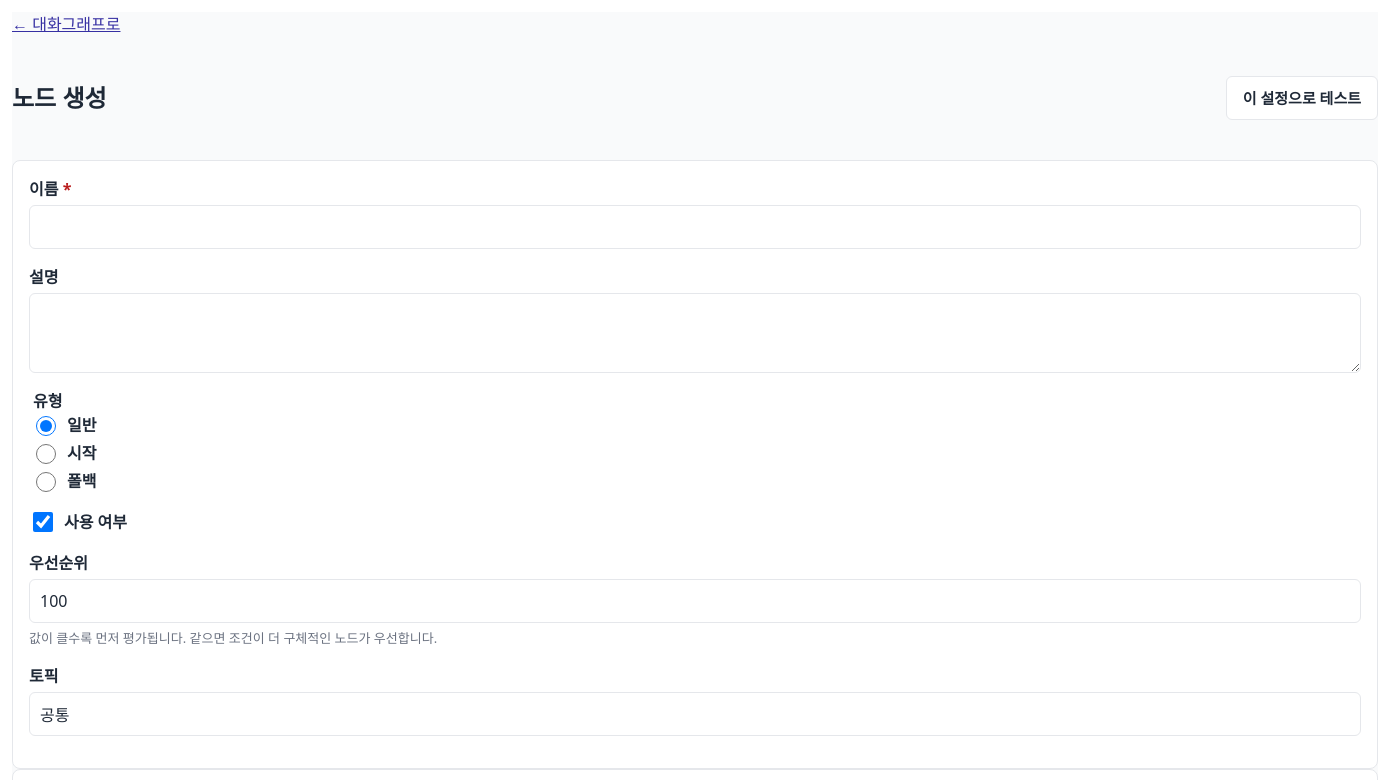
Test: NodeFormPage — 토픽 선택 필드 / 시작·폴백 잠금 › 유형을 시작(START)으로 바꾸면 토픽 선택 필드 대신 고정 안내 문구가 보인다
Expected: the dropdown labelled "토픽" is shown, [29,692,1361,736]
Click the radio button labelled "시작" at (46, 454), box [36,444,56,464]
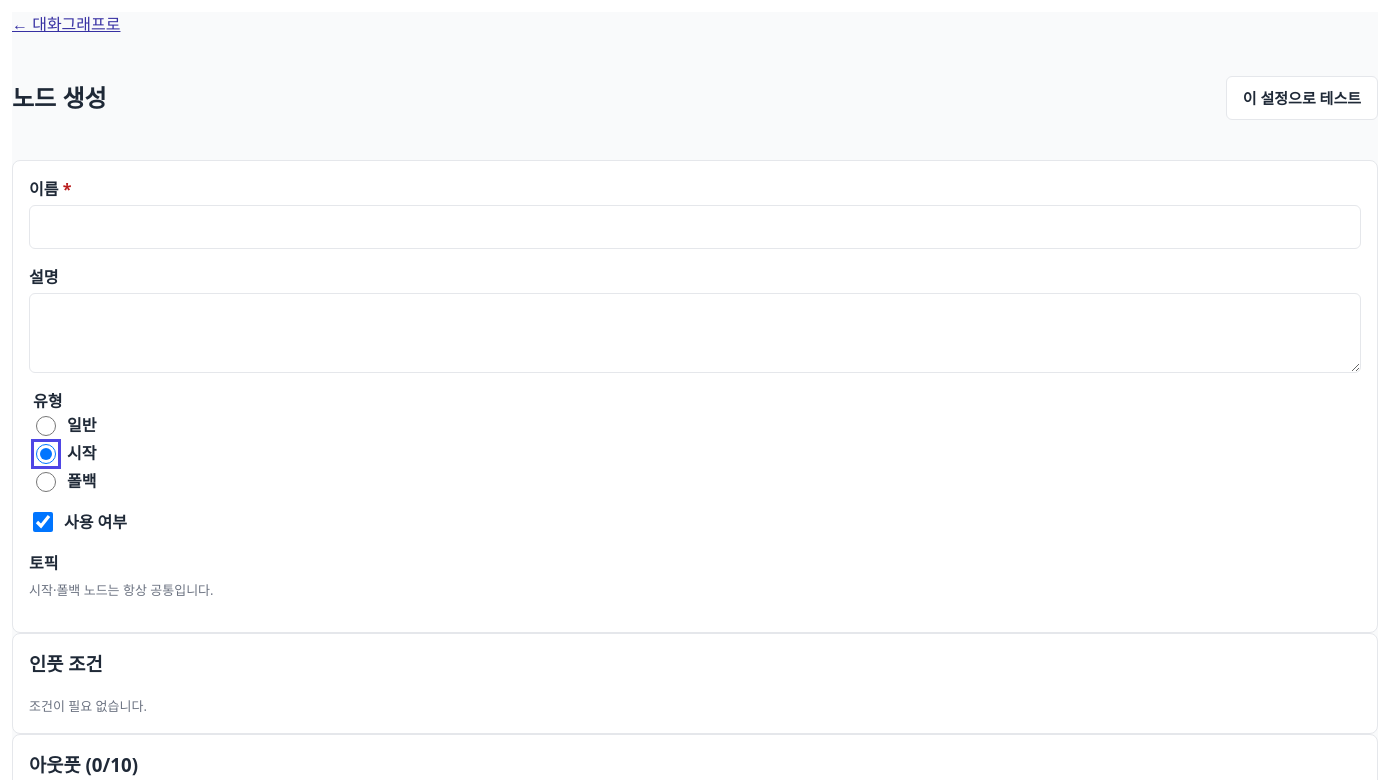
Now the text "시작·폴백 노드는 항상 공통입니다." is shown, box [29,581,214,599]
